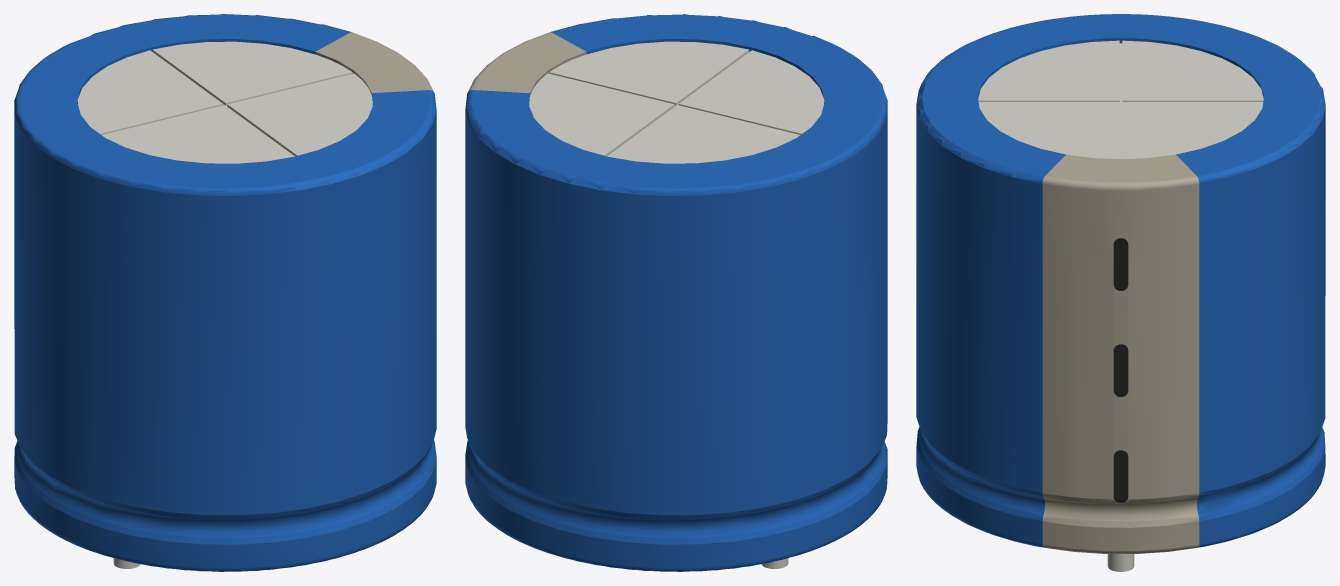
Rendered from kc-cp_radial_d14.0mm_p7.50mm.glb.
The picture shows the model from 3 angles, left to right: view 1: azimuth 30°, elevation 25°; view 2: azimuth 150°, elevation 25°; view 3: azimuth 270°, elevation 25°; orthographic projection. The views are drawn at different scales.
Parts seen in each view (by area): view 1: 0_0.16666666666666666_0.5_0, 0.6666666666666666_0.6666666666666666_0.5833333333333334_0.8, 0.4166666666666667_0.4166666666666667_0.3333333333333333_0; view 2: 0_0.16666666666666666_0.5_0, 0.6666666666666666_0.6666666666666666_0.5833333333333334_0.8, 0.4166666666666667_0.4166666666666667_0.3333333333333333_0; view 3: 0_0.16666666666666666_0.5_0, 0.4166666666666667_0.4166666666666667_0.3333333333333333_0, 0.6666666666666666_0.6666666666666666_0.5833333333333334_0.8, 0_0_0_0.
Part boxes in pixels (x1,y1,x2,y2): 0_0.16666666666666666_0.5_0: (14, 14, 436, 571); 0.6666666666666666_0.6666666666666666_0.5833333333333334_0.8: (77, 41, 372, 568); 0.4166666666666667_0.4166666666666667_0.3333333333333333_0: (315, 32, 433, 94); 0_0.16666666666666666_0.5_0: (465, 14, 887, 571); 0.6666666666666666_0.6666666666666666_0.5833333333333334_0.8: (529, 41, 824, 568); 0.4166666666666667_0.4166666666666667_0.3333333333333333_0: (468, 32, 586, 94); 0_0.16666666666666666_0.5_0: (916, 14, 1325, 547); 0.4166666666666667_0.4166666666666667_0.3333333333333333_0: (1042, 154, 1199, 553); 0.6666666666666666_0.6666666666666666_0.5833333333333334_0.8: (978, 40, 1263, 571); 0_0_0_0: (1113, 238, 1128, 502).
Bounding box in the file's own units: 1.4 × 1.6 × 1.4.
